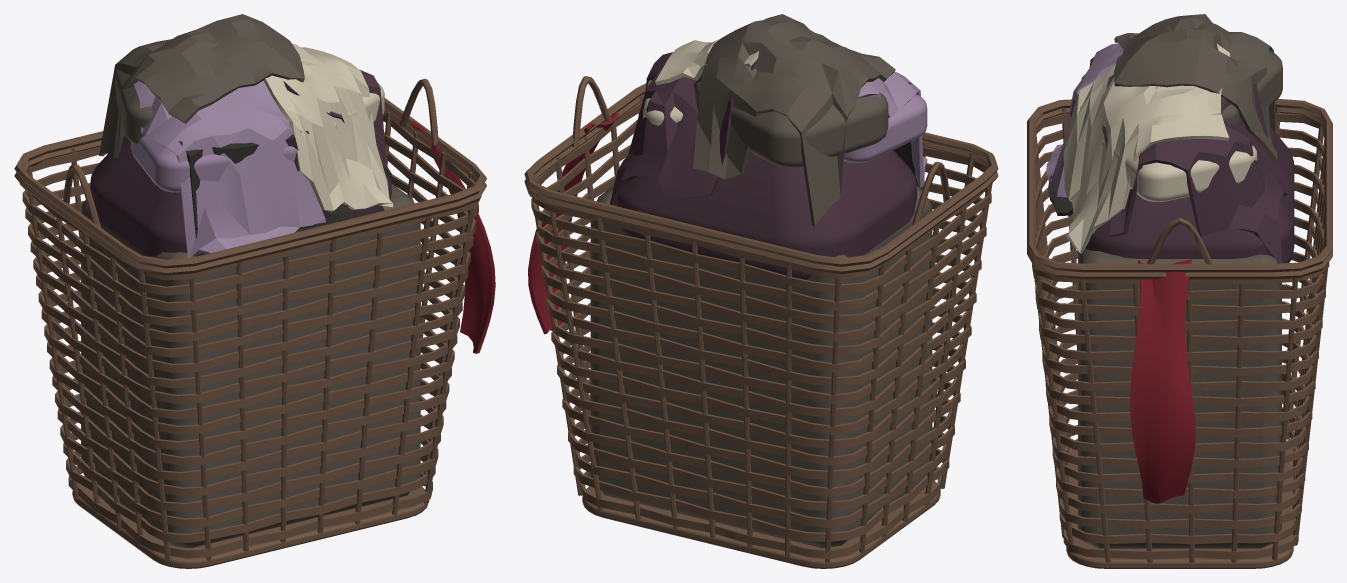
Rendered from laundry-basket-full-2c573d8a2c0e.glb.
3 views of the same model, side by side, from view 1: azimuth 30°, elevation 25°; view 2: azimuth 150°, elevation 25°; view 3: azimuth 270°, elevation 25° (orthographic). The views are drawn at different scales.
Visible parts, largest first — view 1: wood, fabric, cloth-lilac, cloth-cream, cloth-plum, accent-crimson, speaker-cloth; view 2: wood, fabric, cloth-plum, cloth-lilac, accent-crimson, cloth-cream; view 3: wood, fabric, cloth-plum, cloth-cream, accent-crimson, cloth-lilac, speaker-cloth.
Part boxes in pixels (x1,y1,x2,y2): wood: (14, 78, 486, 568); fabric: (81, 14, 420, 547); cloth-lilac: (131, 80, 325, 257); cloth-cream: (263, 43, 392, 212); cloth-plum: (90, 69, 391, 256); accent-crimson: (411, 121, 495, 353); speaker-cloth: (178, 130, 352, 256); wood: (524, 76, 998, 568); fabric: (590, 14, 932, 547); cloth-plum: (609, 52, 916, 279); cloth-lilac: (843, 71, 927, 187); accent-crimson: (528, 112, 619, 334); cloth-cream: (643, 38, 758, 125); wood: (1027, 98, 1332, 568); fabric: (1078, 14, 1282, 548); cloth-plum: (1079, 74, 1294, 263); cloth-cream: (1063, 44, 1257, 253); accent-crimson: (1130, 259, 1195, 503); cloth-lilac: (1046, 43, 1123, 197); speaker-cloth: (1048, 57, 1093, 215).
Size of the model in its own units: 0.5388 by 0.6096 by 0.36.
